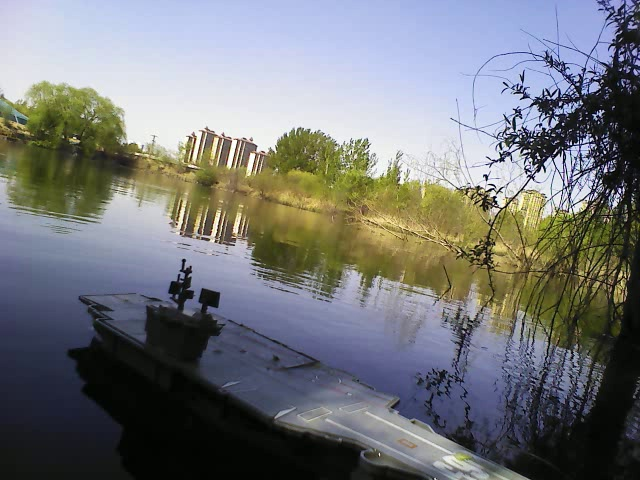aircraft_carrier: (76, 282, 539, 475)
